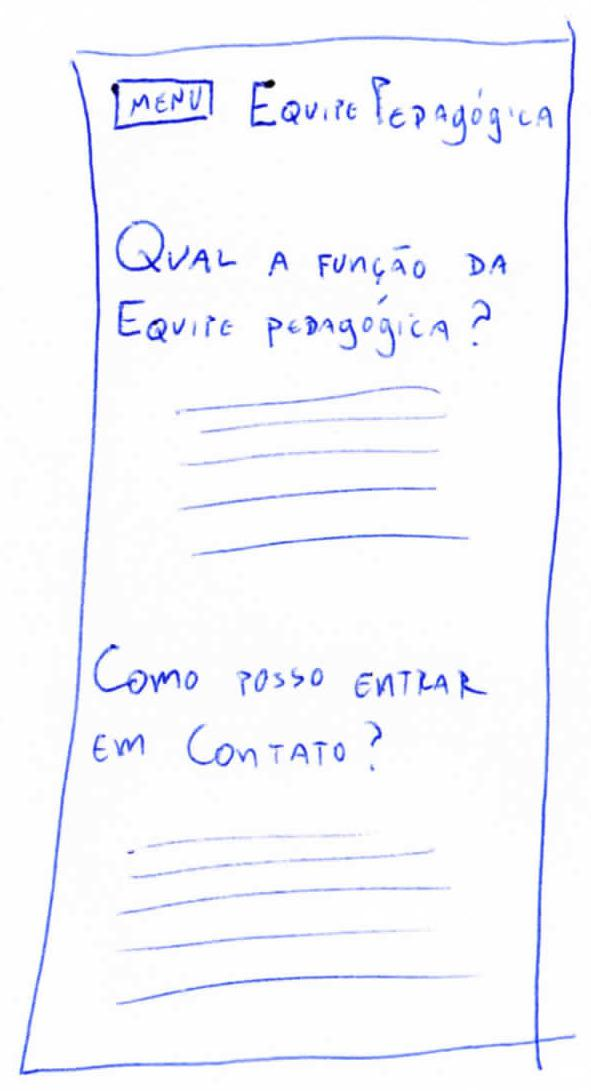Button: (115, 80, 212, 128)
Label: (115, 833, 476, 1008), (115, 217, 506, 357), (177, 385, 470, 557), (94, 644, 486, 772), (248, 75, 554, 146)
Screen: (20, 38, 575, 1075)
